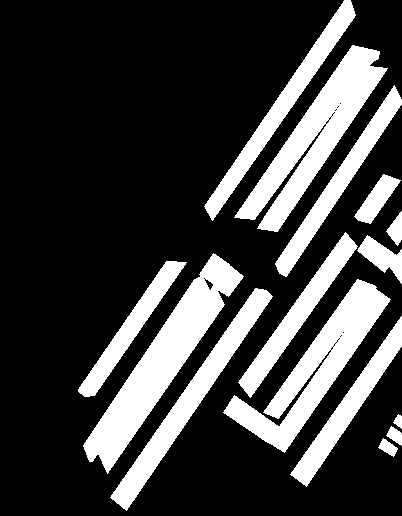parkingspot: (110, 288, 272, 510), (204, 0, 355, 220), (234, 45, 379, 219), (275, 85, 402, 276), (98, 285, 224, 473), (83, 275, 209, 461), (257, 66, 387, 231), (268, 288, 390, 452), (238, 232, 357, 397), (290, 314, 402, 486), (263, 279, 376, 418), (78, 261, 186, 396), (223, 395, 278, 442), (354, 174, 400, 223), (357, 235, 396, 272), (212, 264, 243, 296), (199, 253, 229, 284), (386, 210, 402, 245), (389, 247, 402, 283), (378, 438, 397, 456), (386, 426, 402, 445), (393, 414, 402, 428)
